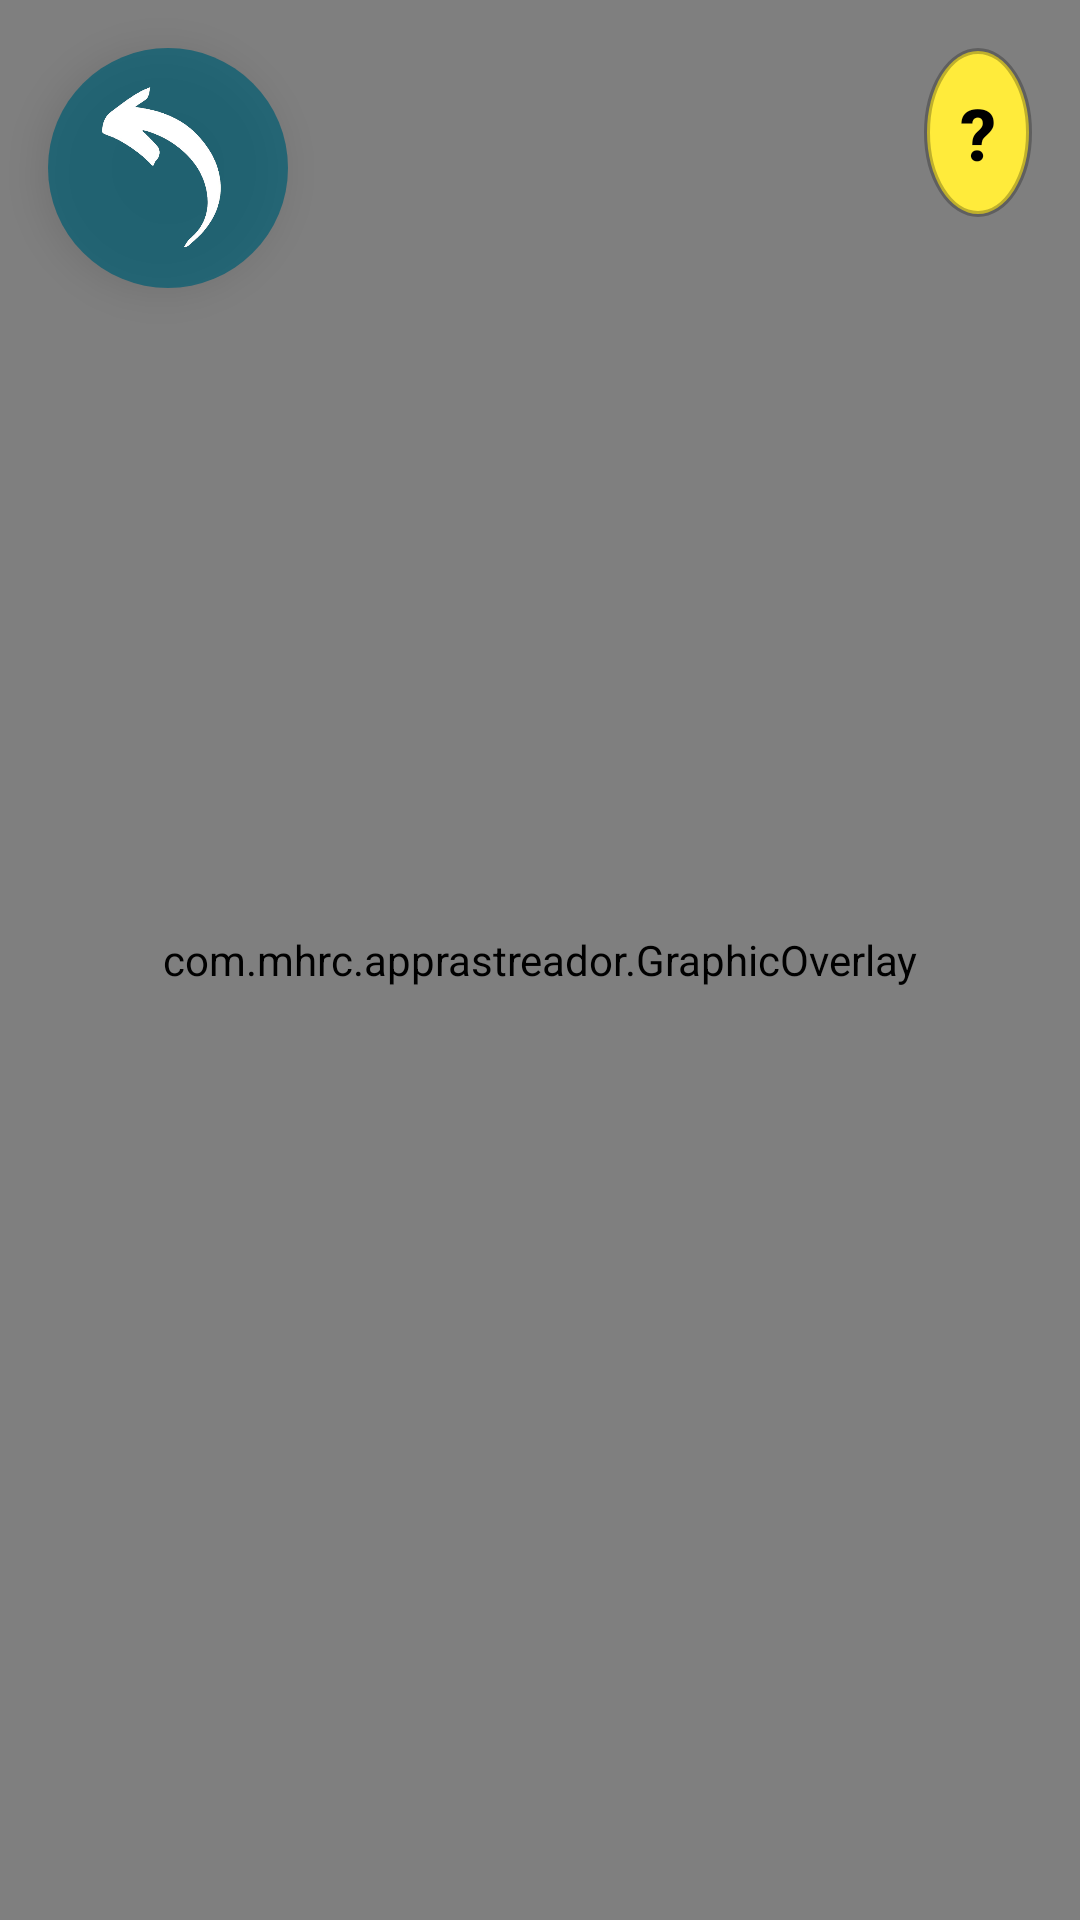

Icons on this 1080px x 1920px Android screen, each with its box as (x1, y1, x2, y2):
Regresar: (48, 48, 288, 288)
